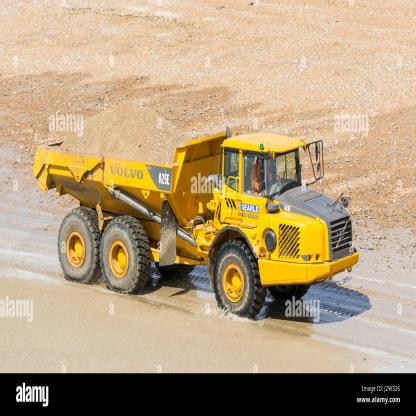dump_truck: (43, 92, 358, 335)
